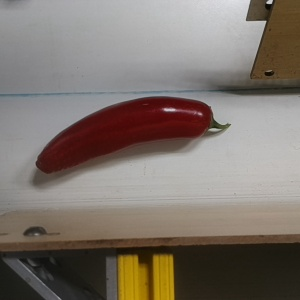Cut Point: (191, 99, 223, 139)
